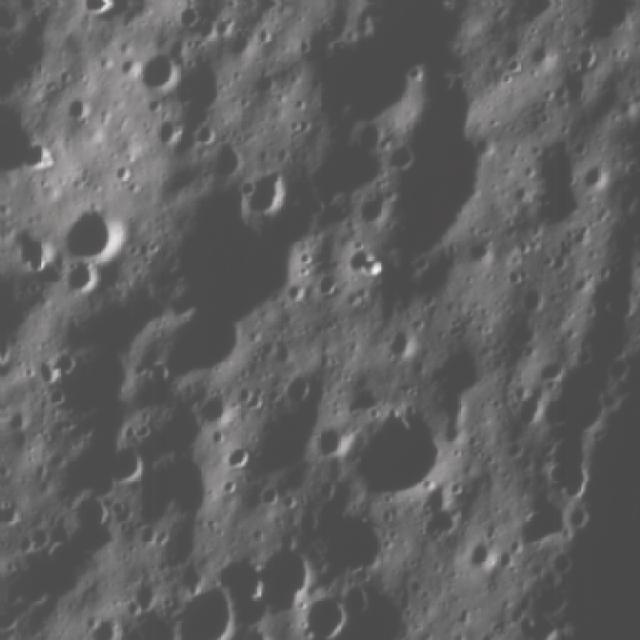crater: (159, 174, 313, 320), (316, 26, 432, 154), (334, 396, 455, 492), (511, 123, 602, 234), (295, 490, 394, 585), (146, 307, 254, 385), (160, 43, 228, 132), (57, 198, 137, 270), (171, 578, 246, 638), (237, 158, 294, 228), (261, 540, 314, 614), (294, 580, 354, 638), (413, 485, 461, 550), (122, 43, 180, 95), (220, 547, 268, 608), (382, 312, 432, 370), (59, 256, 110, 307), (16, 130, 66, 182), (352, 181, 403, 227), (108, 437, 150, 491), (14, 227, 58, 276), (69, 485, 117, 527), (578, 153, 618, 199), (209, 133, 246, 182), (564, 39, 604, 78), (380, 129, 414, 174), (44, 339, 79, 381), (61, 86, 98, 123), (317, 418, 349, 458), (532, 352, 566, 388), (466, 537, 497, 575), (114, 48, 141, 86), (220, 441, 252, 468)
